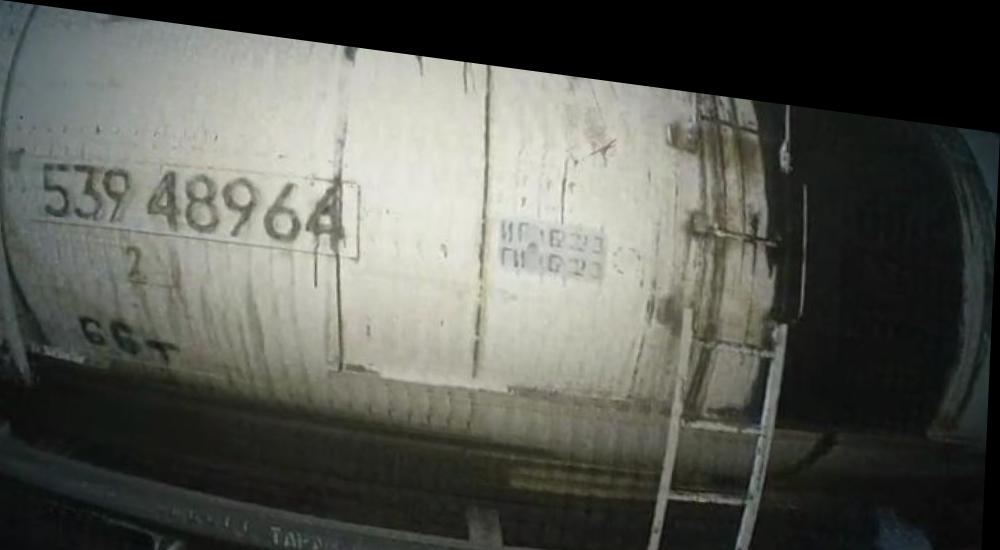Wagon-number: (39, 143, 358, 255)
